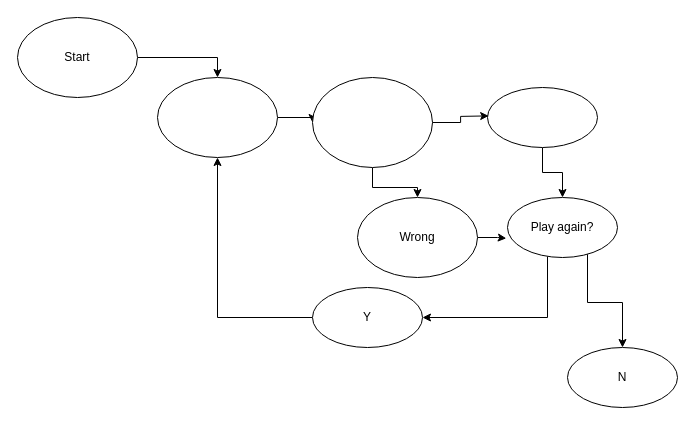
The diagram is 695 pixels wide and 425 high, and some of its shapes have lost their labels. Here are the shapes that lost their labels. From the top down, the centre of each, then its label:
(x=217, y=117): Make number variables
(x=372, y=122): Input number
(x=542, y=117): correct YAYYAYAY
